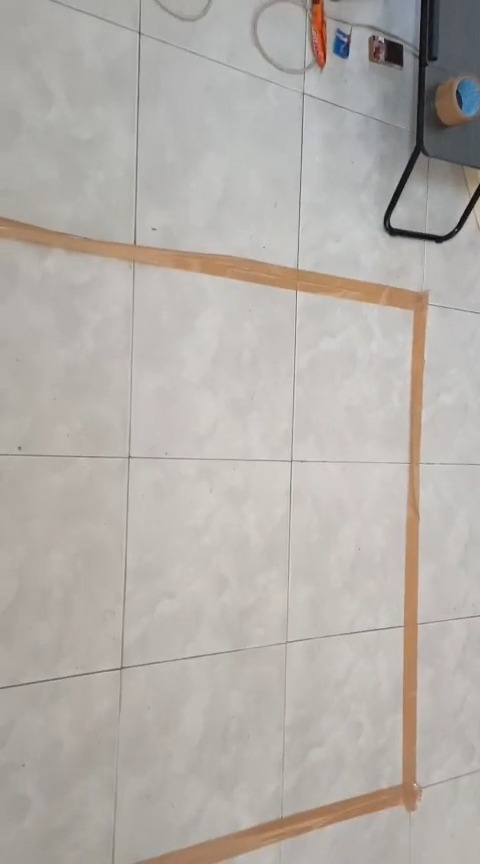floor marking: (0, 218, 427, 863)
